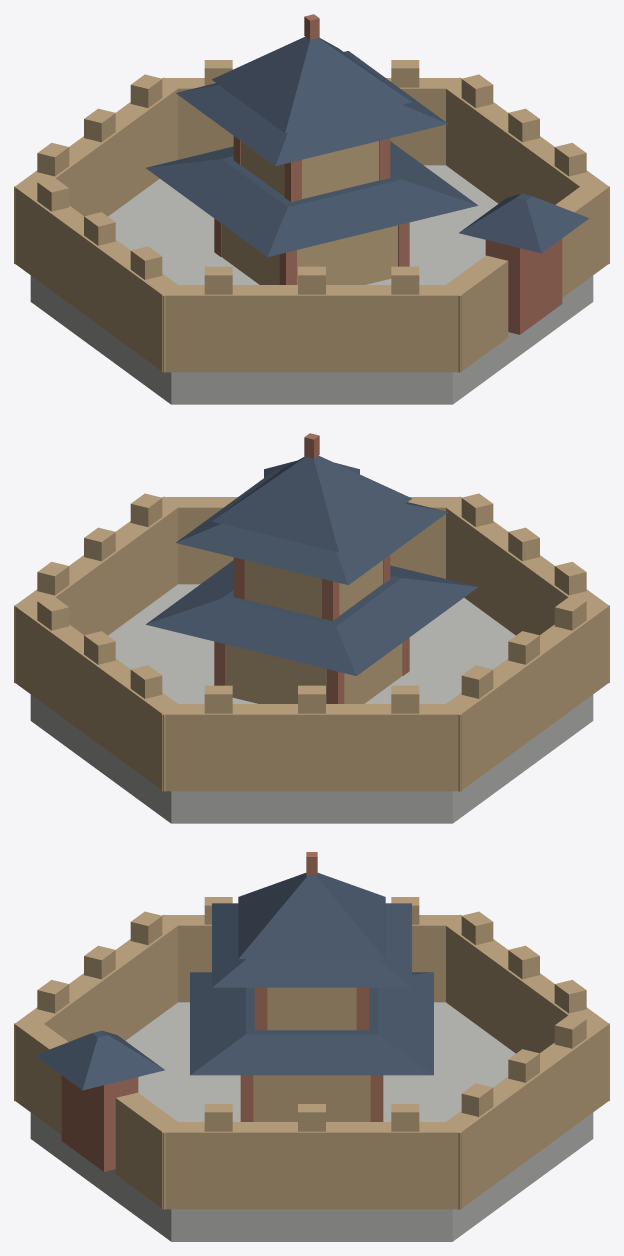
File: castle-small.glb
3 views of the same model, one above another, from view 1: azimuth 30°, elevation 25°; view 2: azimuth 150°, elevation 25°; view 3: azimuth 270°, elevation 25° (orthographic).
Parts seen in each view (by area): view 1: platform0, wall4, b0_eave0, wall3, b0_roof, wall2, wall0, b0_topeave, b0_t0, wall1, wall5_-1, gate5 (+19 smaller); view 2: platform0, wall2, b0_eave0, wall3, wall1, b0_roof, wall0, wall4, b0_topeave, b0_t0, b0_t1, wall5_1 (+18 smaller); view 3: platform0, wall0, b0_eave0, wall1, b0_roof, wall2, wall4, b0_topeave, b0_t0, wall3, wall5_1, gate5 (+19 smaller).
Part boxes in pixels (x1,y1,x2,y2): platform0: [30, 165, 593, 404]; wall4: [162, 285, 461, 372]; b0_eave0: [146, 141, 477, 256]; wall3: [14, 181, 185, 372]; b0_roof: [212, 36, 411, 133]; wall2: [14, 77, 184, 264]; wall0: [438, 77, 609, 264]; b0_topeave: [176, 51, 447, 165]; b0_t0: [221, 224, 397, 284]; wall1: [162, 78, 461, 165]; wall5_-1: [438, 255, 508, 372]; gate5: [485, 238, 562, 334]; platform0: [30, 584, 593, 823]; wall2: [162, 704, 461, 791]; b0_eave0: [146, 560, 477, 675]; wall3: [438, 600, 609, 791]; wall1: [14, 600, 185, 791]; b0_roof: [212, 455, 411, 552]; wall0: [14, 496, 184, 683]; wall4: [438, 496, 609, 683]; b0_topeave: [176, 470, 447, 584]; b0_t0: [226, 643, 402, 703]; b0_t1: [245, 560, 383, 617]; wall5_1: [162, 497, 237, 584]; platform0: [30, 1002, 593, 1241]; wall0: [162, 1122, 461, 1209]; b0_eave0: [190, 972, 433, 1075]; wall1: [446, 1018, 609, 1209]; b0_roof: [238, 873, 385, 958]; wall2: [438, 914, 609, 1101]; wall4: [14, 914, 185, 1101]; b0_topeave: [212, 903, 411, 987]; b0_t0: [253, 1075, 370, 1121]; wall3: [162, 915, 461, 1002]; wall5_1: [115, 1092, 177, 1209]; gate5: [61, 1075, 138, 1171].
Size of the model in its own units: 1.06 by 0.6408 by 1.22.
